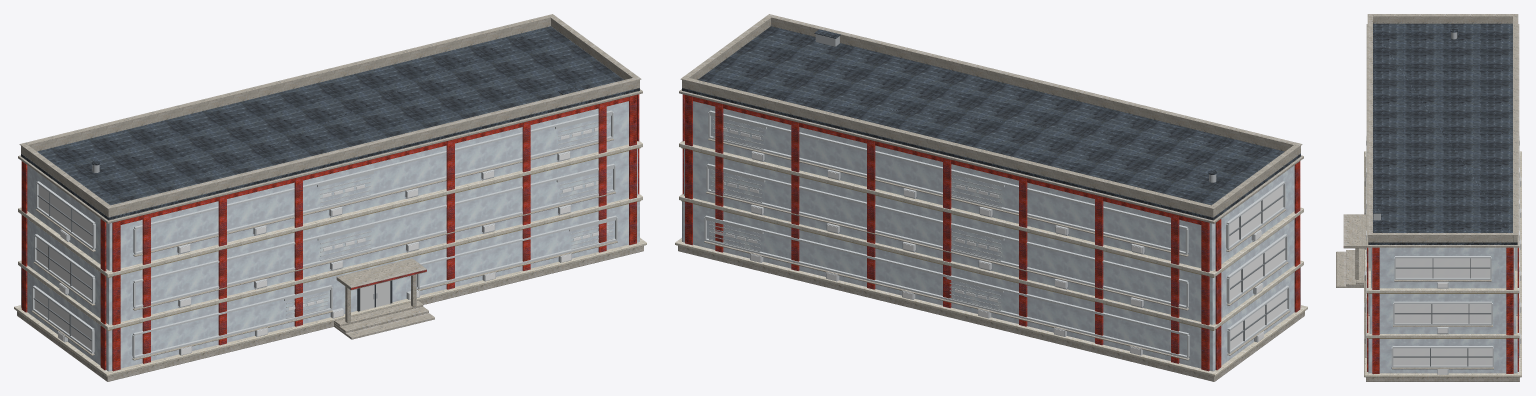
File: ov-lab.glb
3 renders of one model, left to right at view 1: azimuth 30°, elevation 25°; view 2: azimuth 150°, elevation 25°; view 3: azimuth 270°, elevation 25°, orthographic. The views are drawn at different scales.
Parts seen in each view (by area): view 1: lab_roofslab, lab_floor2, lab_floor3, lab_floor1, lab_parapet_S, lab_parapet_N, lab_cornice_F3, lab_cornice_F2, lab_plinth_cap, lab_plinth, lab_cornice_top, lab_frieze_S (+39 smaller); view 2: lab_roofslab, lab_floor2, lab_floor3, lab_floor1, lab_parapet_N, lab_parapet_S, lab_cornice_F3, lab_plinth, lab_cornice_F2, lab_plinth_cap, lab_cornice_top, lab_coping_N (+37 smaller); view 3: lab_roofslab, lab_floor3, lab_floor2, lab_floor1, lab_win_glass_F3_E, lab_win_glass_F2_E, lab_win_glass_F1_E, lab_plinth_cap, lab_cornice_top, lab_coping_N, lab_coping_S, lab_parapet_E (+27 smaller).
Boxes of the visible parts, x1,y1,x2,y2 form: lab_roofslab: (21,26,639,220); lab_floor2: (27,149,637,324); lab_floor3: (27,101,628,270); lab_floor1: (21,201,639,371); lab_parapet_S: (106,80,639,217); lab_parapet_N: (21,18,550,154); lab_cornice_F3: (18,141,642,277); lab_cornice_F2: (18,194,642,330); lab_plinth_cap: (14,238,646,376); lab_plinth: (17,245,643,381); lab_cornice_top: (18,89,642,223); lab_frieze_S: (120,97,629,224); lab_roofslab: (682,26,1300,220); lab_floor2: (684,149,1294,324); lab_floor3: (693,101,1294,270); lab_floor1: (682,201,1300,371); lab_parapet_N: (682,80,1215,217); lab_parapet_S: (771,18,1300,154); lab_cornice_F3: (679,141,1303,277); lab_plinth: (678,245,1304,381); lab_cornice_F2: (679,194,1303,330); lab_plinth_cap: (675,238,1307,376); lab_cornice_top: (679,89,1303,223); lab_coping_N: (680,76,1216,209); lab_roofslab: (1368,23,1517,244); lab_floor3: (1371,247,1514,288); lab_floor2: (1369,294,1516,333); lab_floor1: (1368,339,1517,373); lab_win_glass_F3_E: (1395,258,1490,277); lab_win_glass_F2_E: (1394,304,1491,323); lab_win_glass_F1_E: (1393,348,1492,365); lab_plinth_cap: (1364,151,1521,377); lab_cornice_top: (1366,24,1519,247); lab_coping_N: (1513,14,1518,235); lab_coping_S: (1367,14,1372,235); lab_parapet_E: (1372,235,1513,242).
Size of the model in its own units: 42.7 by 13 by 14.95.
Materials: 13 (5 with a texture image).
